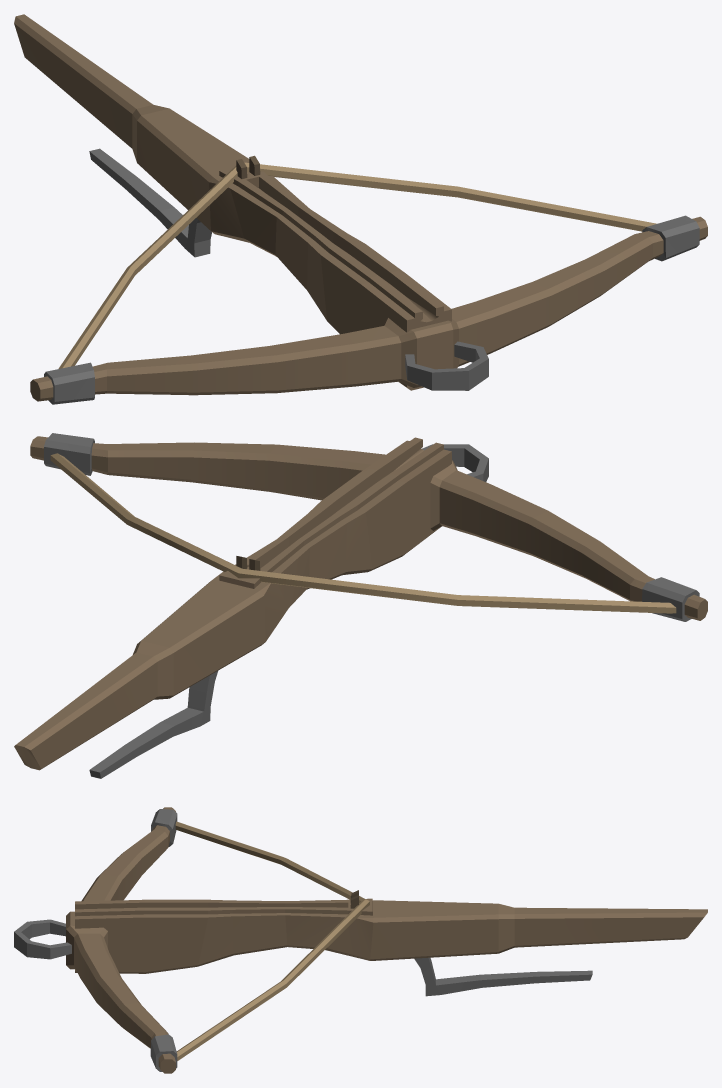
Rendered from cross_bow.FBX.
3 renders of one model, top to bottom at view 1: azimuth 30°, elevation 25°; view 2: azimuth 150°, elevation 25°; view 3: azimuth 270°, elevation 25°, orthographic. The views are drawn at different scales.
Visible parts, largest first — view 1: cross_bow; view 2: cross_bow; view 3: cross_bow.
Part boxes in pixels (x1,y1,x2,y2): cross_bow: [14, 14, 707, 404]; cross_bow: [14, 433, 707, 778]; cross_bow: [14, 807, 707, 1073].
Bounding box in the file's own units: 0.7762 × 0.1437 × 0.9041.
